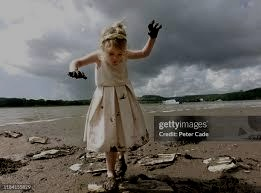earth: (111, 111, 120, 124), (141, 130, 149, 142), (119, 94, 127, 101)
